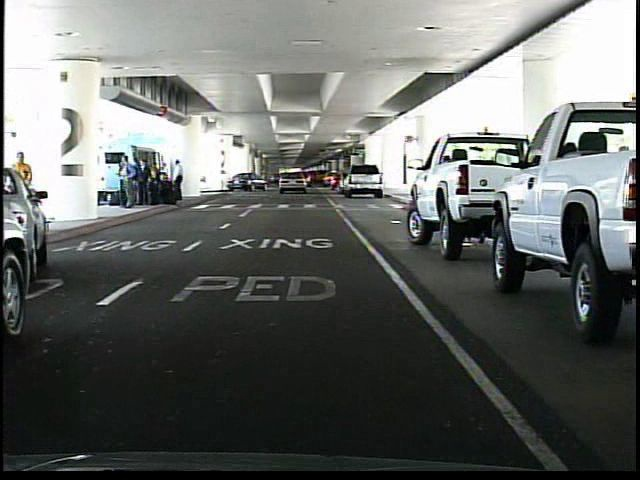person: (5, 148, 39, 237)
